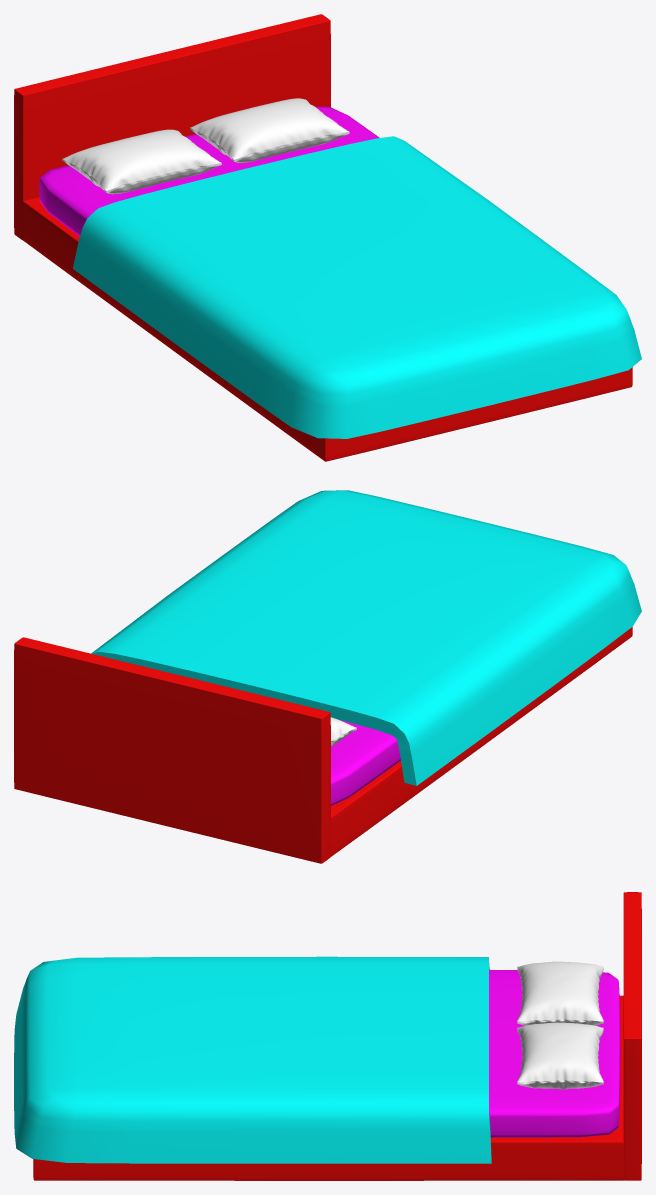
Rendered from motelbedmodel.fbx.
3 renders of one model, top to bottom at view 1: azimuth 30°, elevation 25°; view 2: azimuth 150°, elevation 25°; view 3: azimuth 270°, elevation 25°, orthographic. The views are drawn at different scales.
Visible parts, largest first — view 1: pCube27; view 2: pCube27; view 3: pCube27.
Part boxes in pixels (x1,y1,x2,y2): pCube27: [14, 14, 641, 461]; pCube27: [14, 490, 641, 863]; pCube27: [14, 892, 641, 1180].
Bounding box in the file's own units: 5.86 × 2.38 × 9.48.
